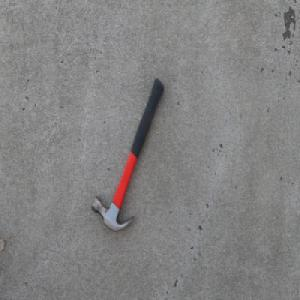Hammer: (91, 77, 164, 233)
